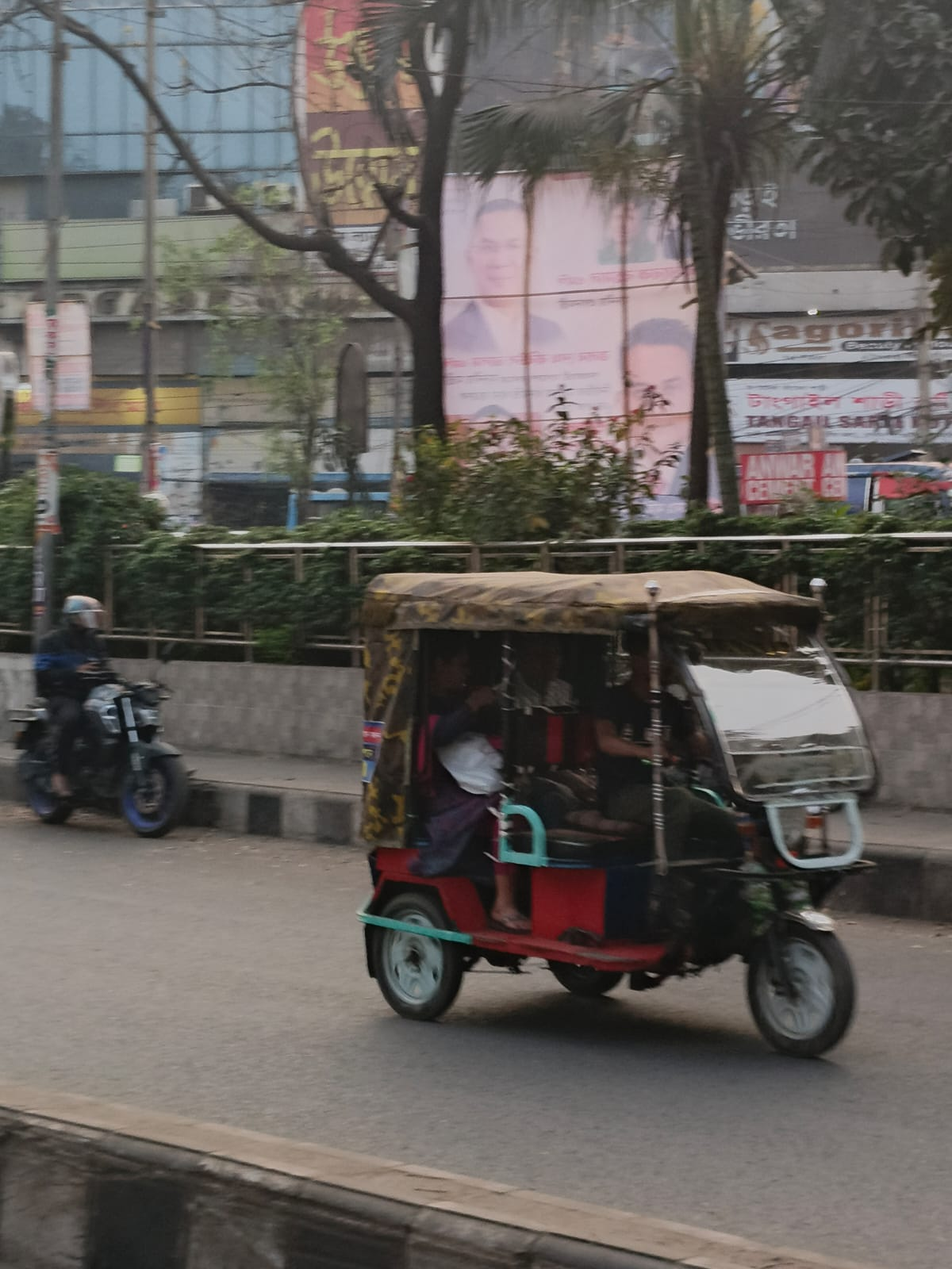Bikes: (29, 540, 245, 953)
auto-ricksaw: (307, 524, 952, 1103)
